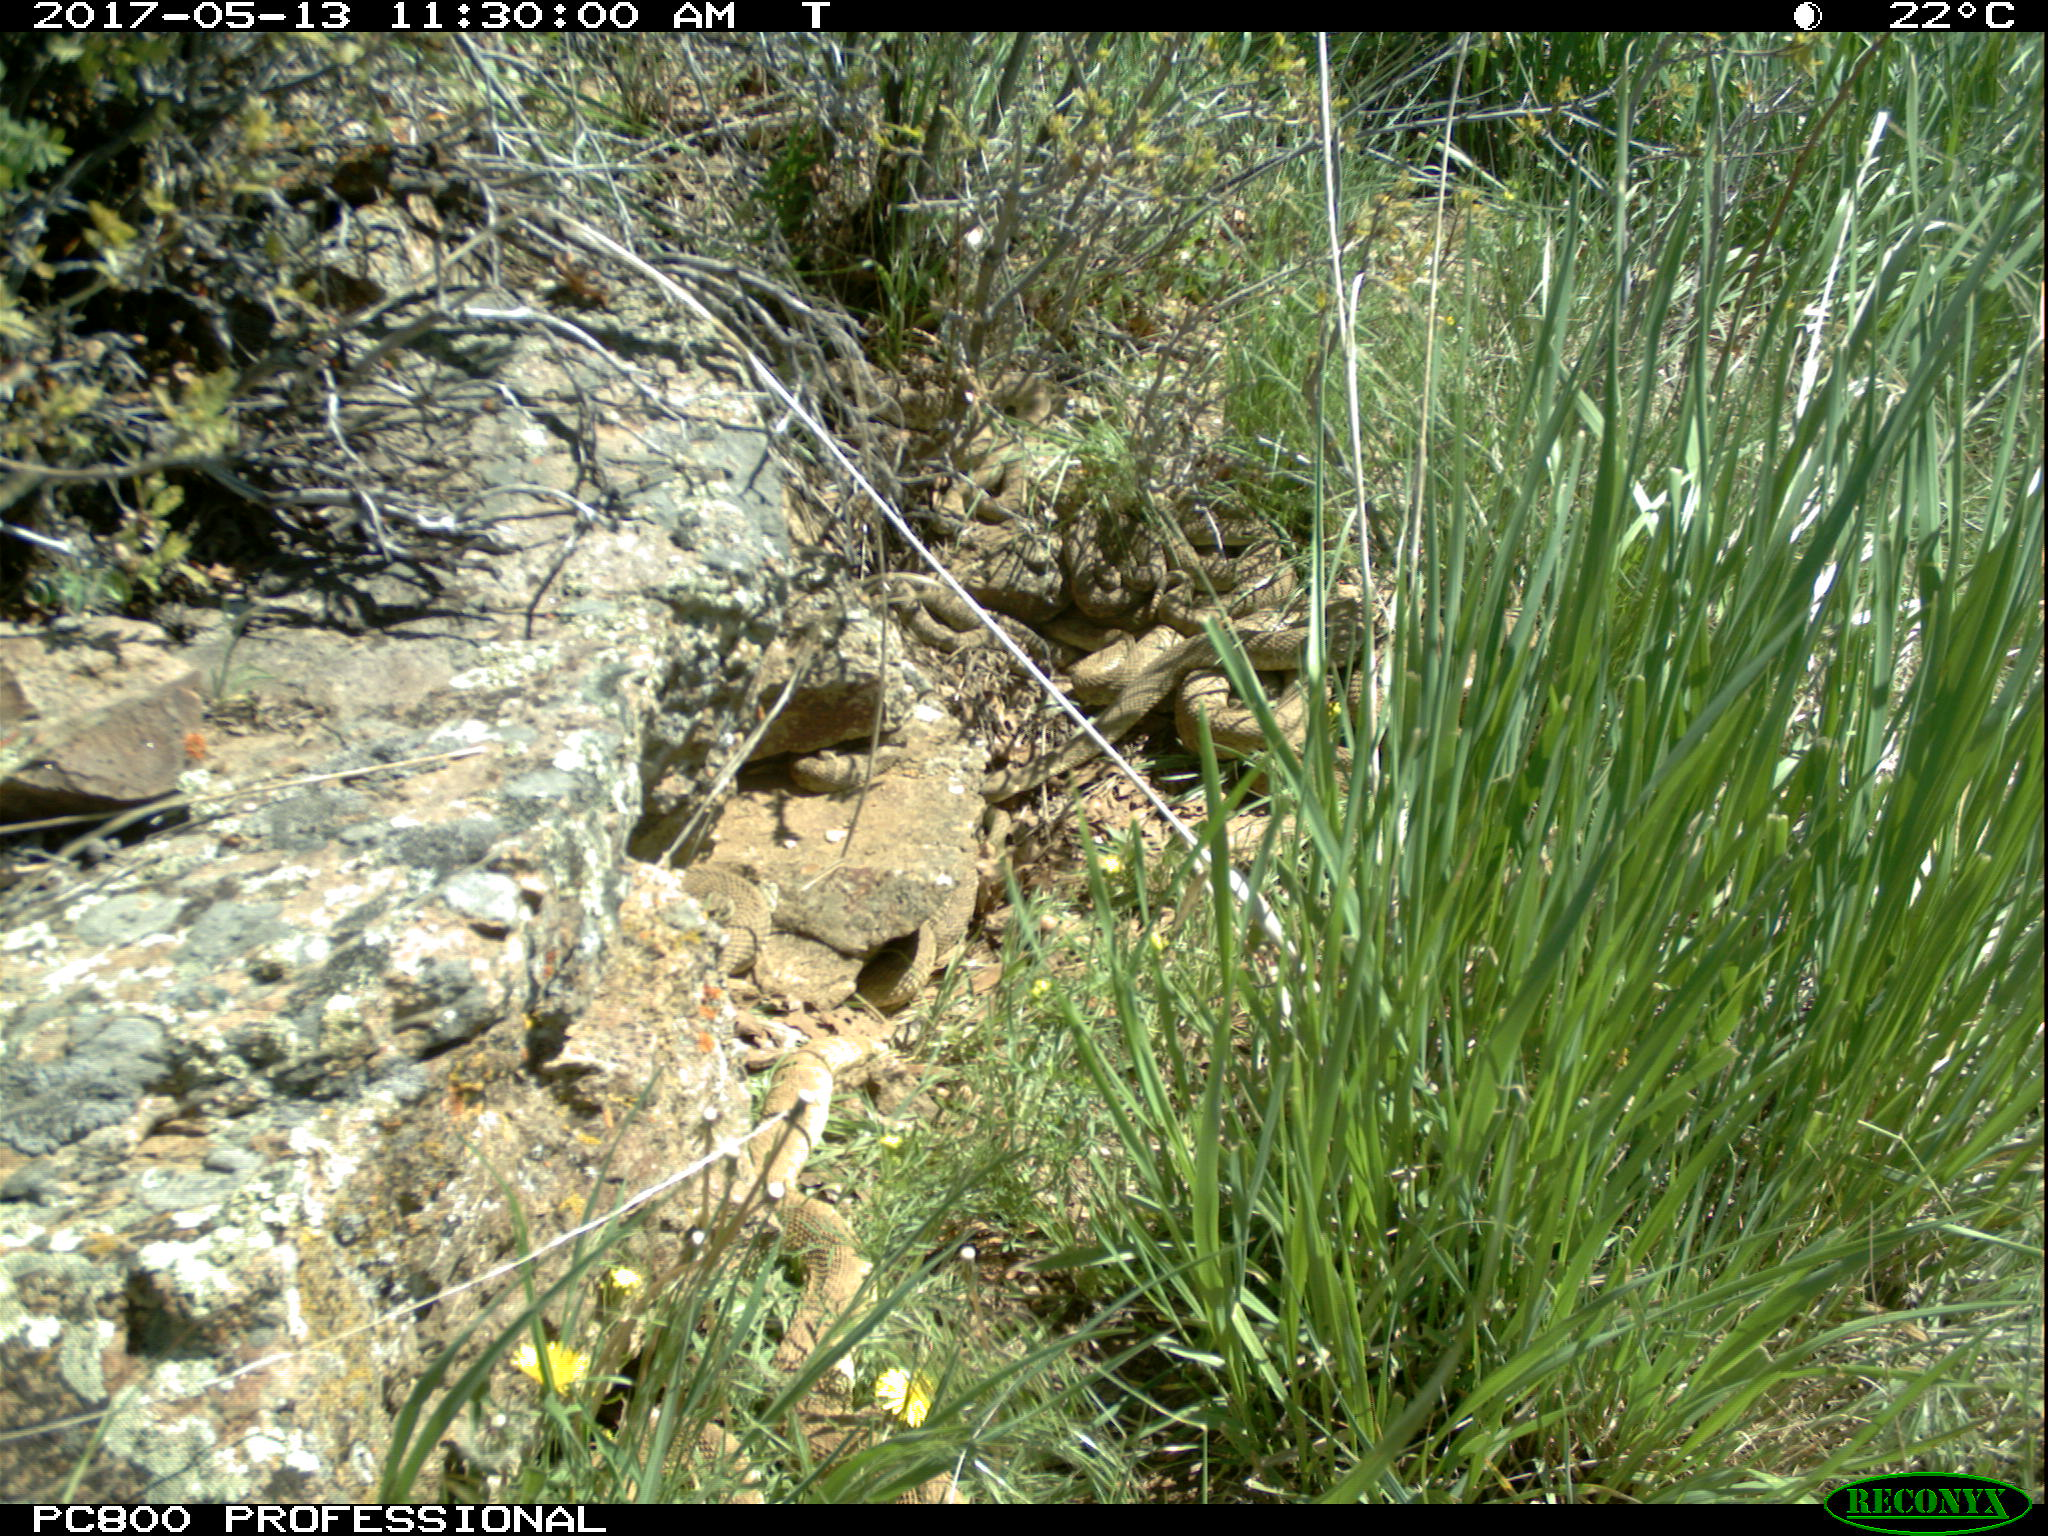snake: (756, 1028, 864, 1391), (1061, 616, 1322, 755), (892, 511, 1071, 642), (1098, 536, 1348, 629), (926, 394, 1045, 539), (676, 870, 780, 979), (848, 908, 948, 999), (795, 752, 921, 786)
